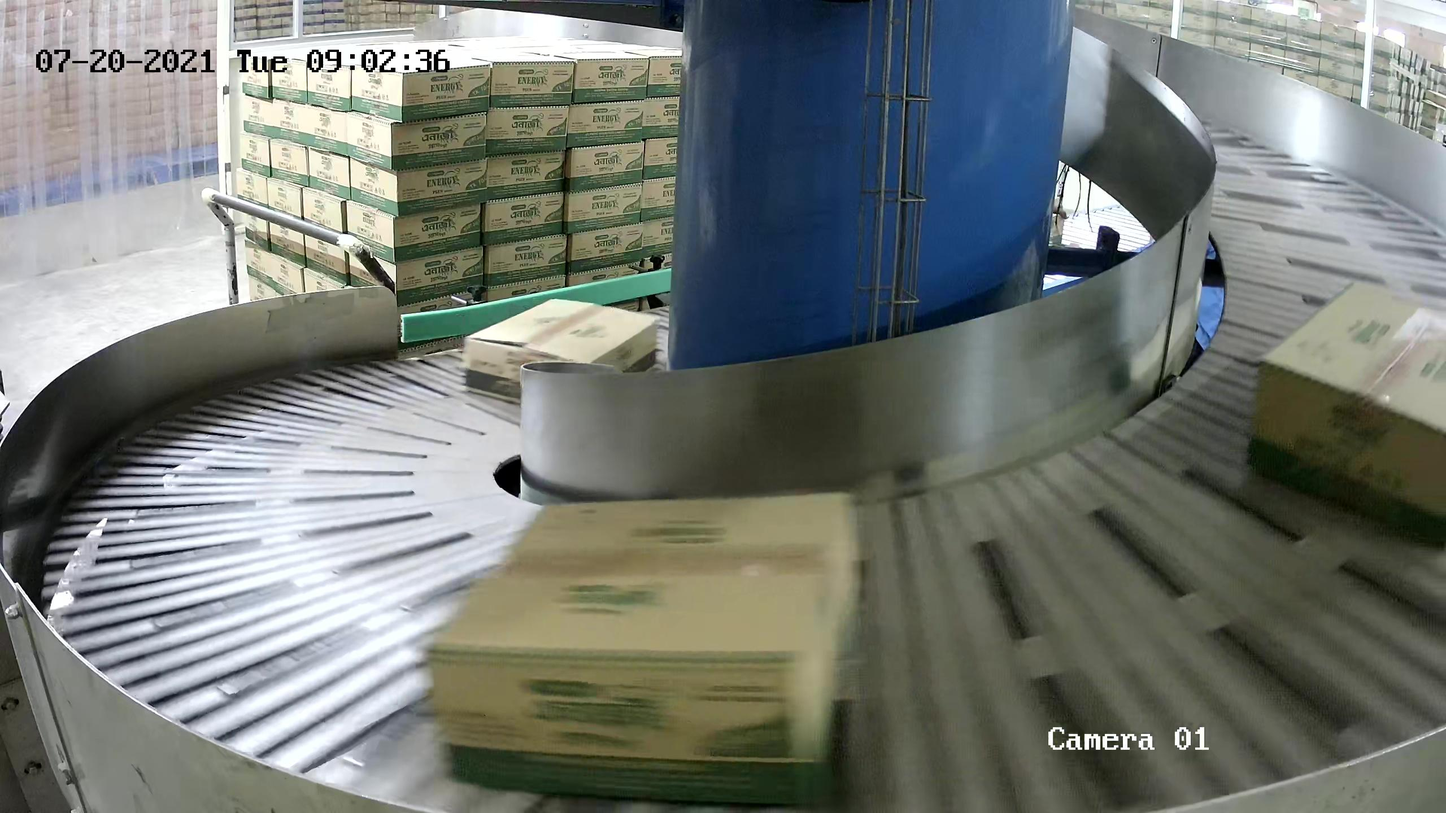Box: (429, 492, 872, 809), (1243, 280, 1446, 558), (461, 298, 658, 413)
